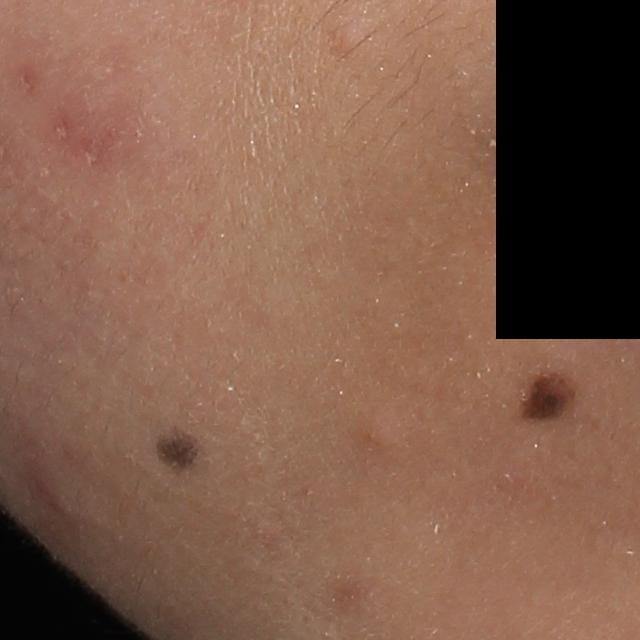comedo: (321, 16, 369, 60), (360, 411, 400, 454)
nevus: (514, 362, 587, 432), (145, 425, 203, 473)
